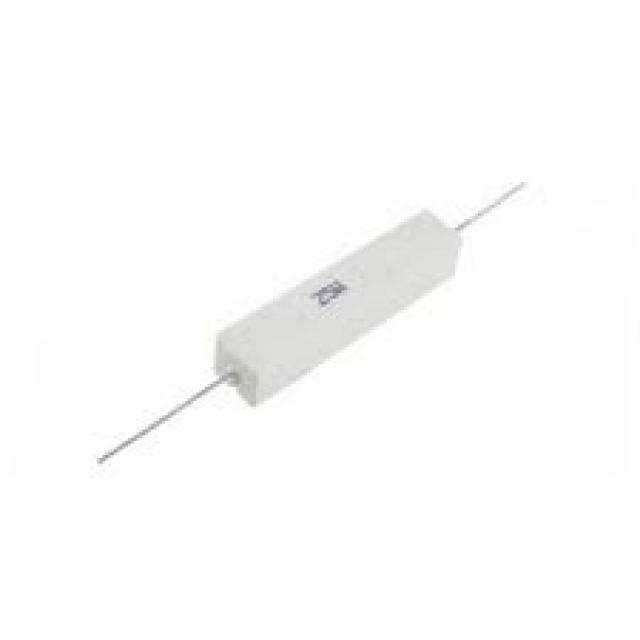Resistor: (216, 210, 457, 403)
